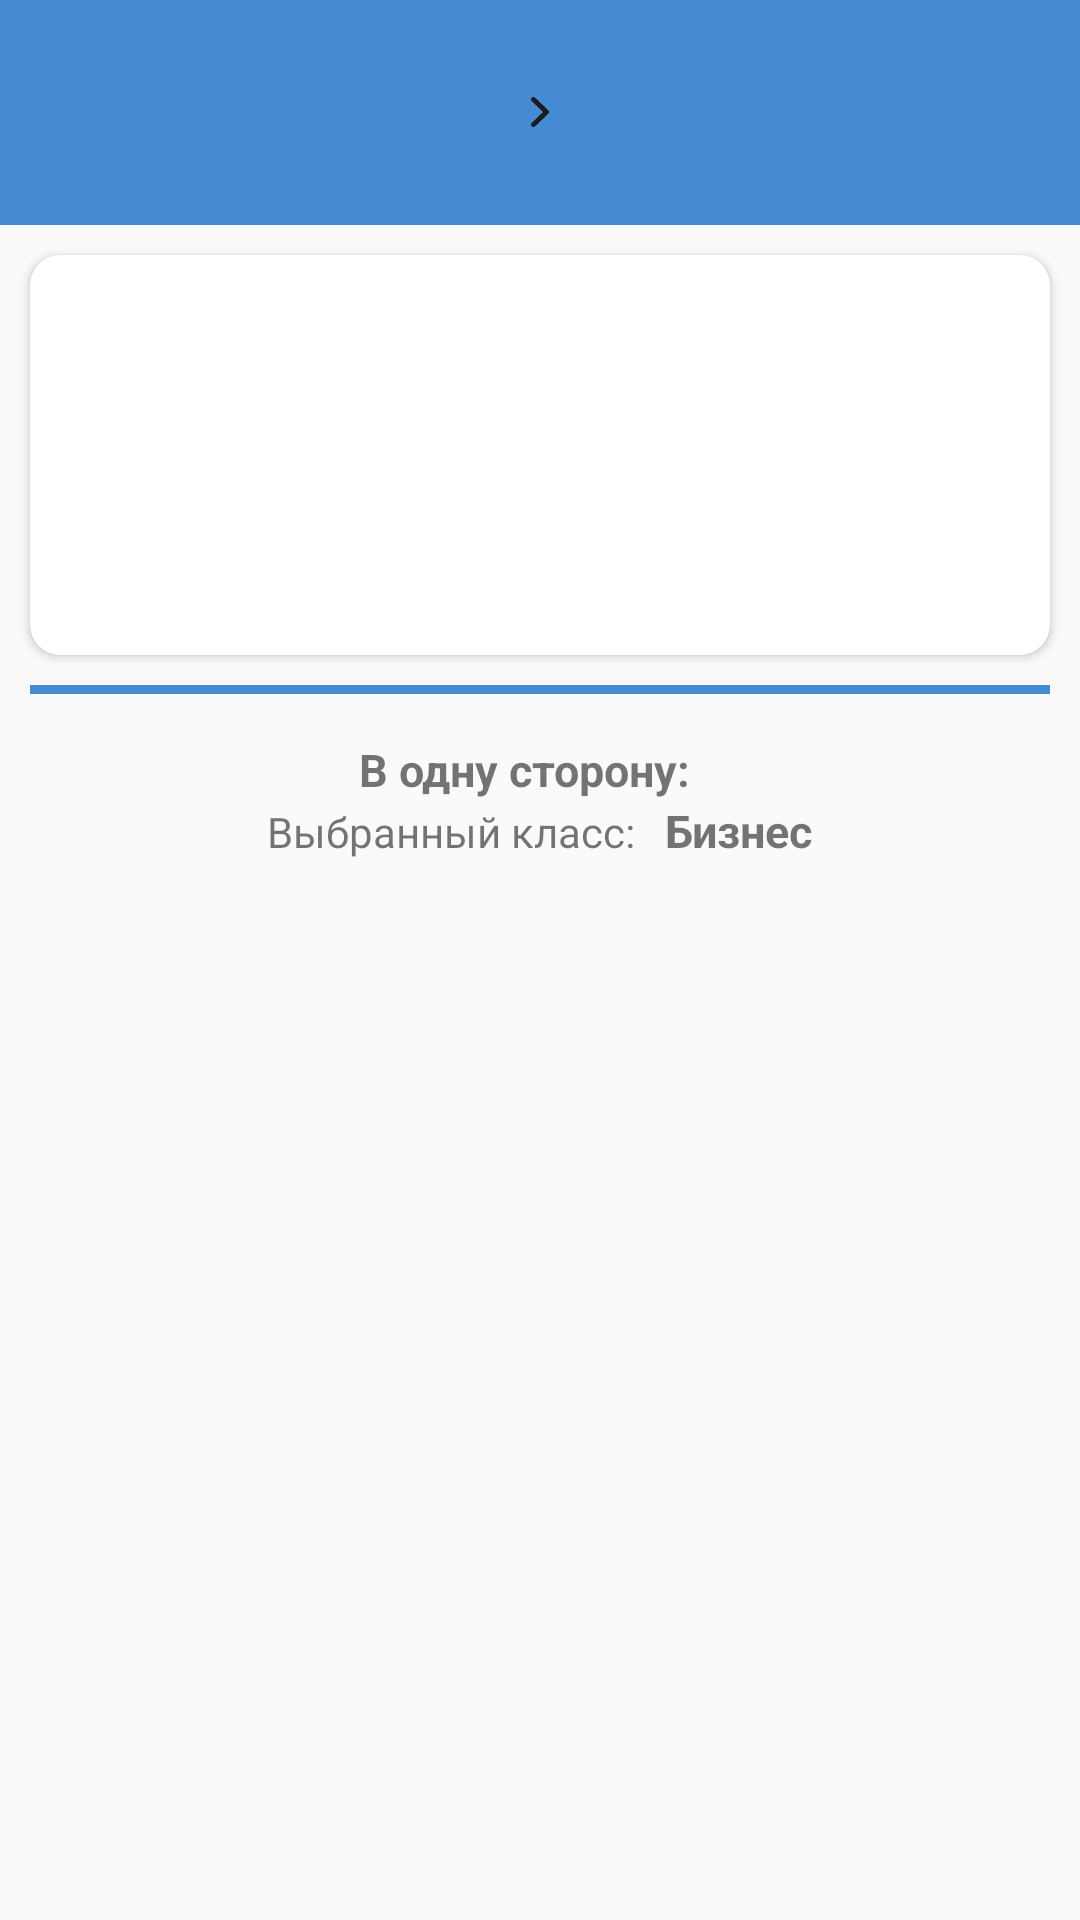

Locate icon controls on the screen. Image size 1080 × 1920, boxes as bbox(x1, y1, x2, y2).
right: bbox(531, 97, 549, 127)
